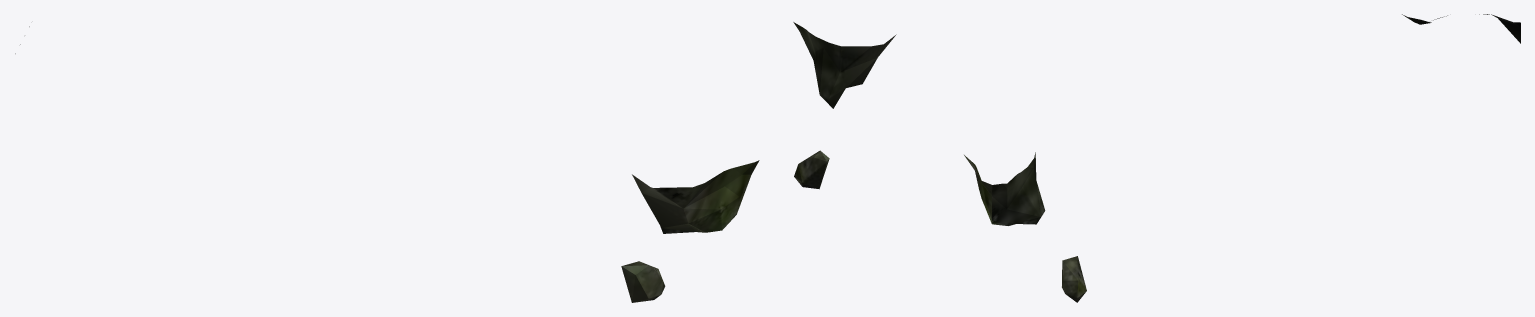
The picture shows the model from 3 angles, left to right: view 1: azimuth 30°, elevation 25°; view 2: azimuth 150°, elevation 25°; view 3: azimuth 270°, elevation 25°; orthographic projection. The views are drawn at different scales.
Size of the model in its own units: 0.5909 by 0.2279 by 0.8175.
1 material, 1 textured.
